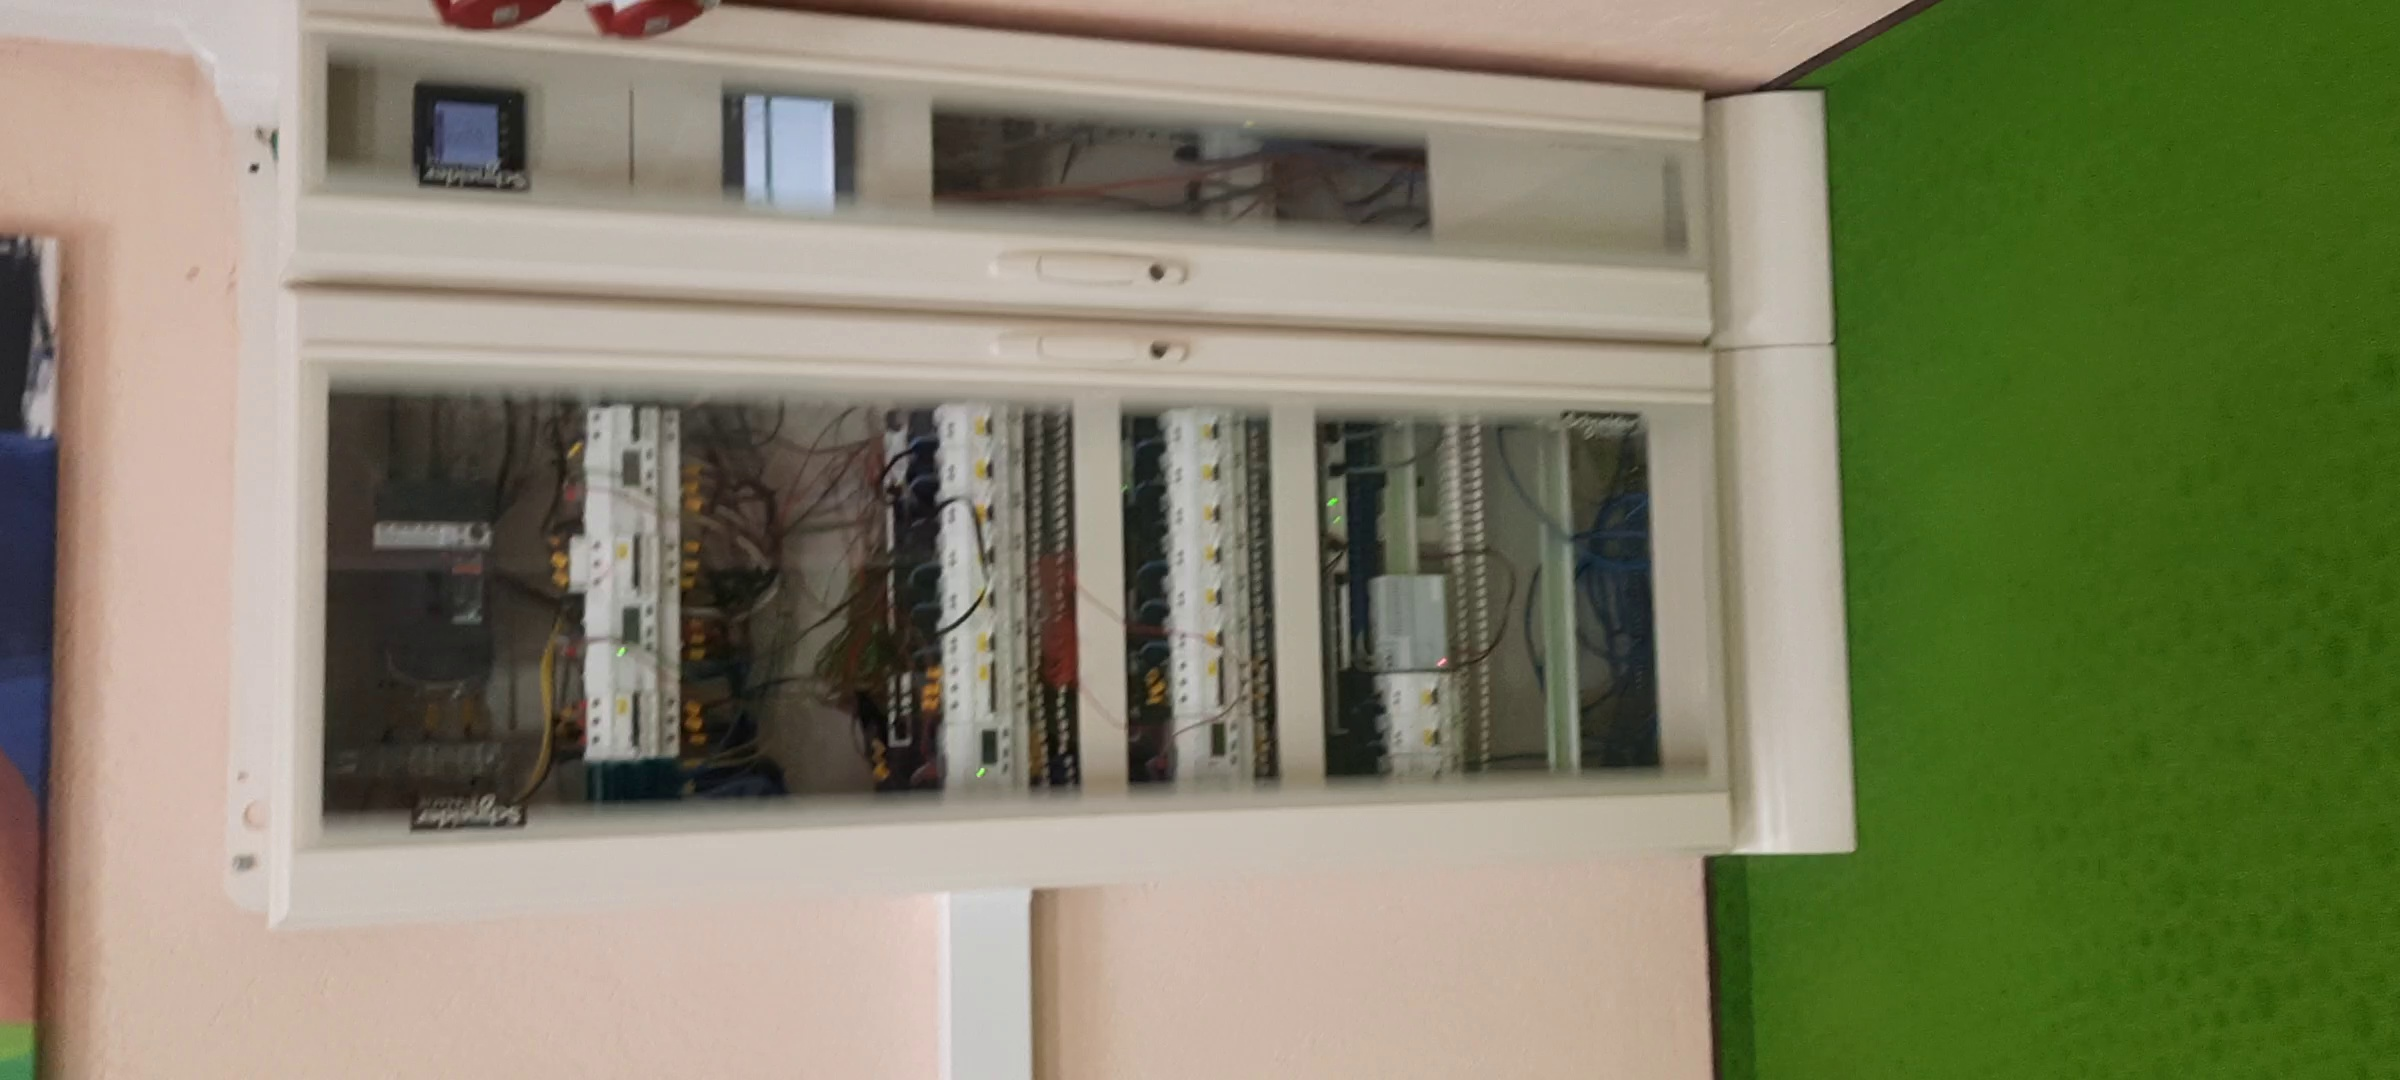stand1: (259, 47, 1815, 873)
